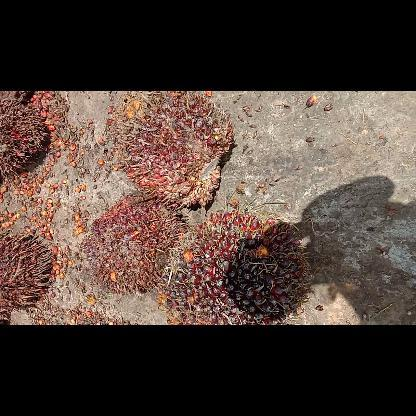Kurang masak: (110, 92, 236, 211)
TBS masak: (157, 210, 313, 324), (88, 192, 186, 296)
